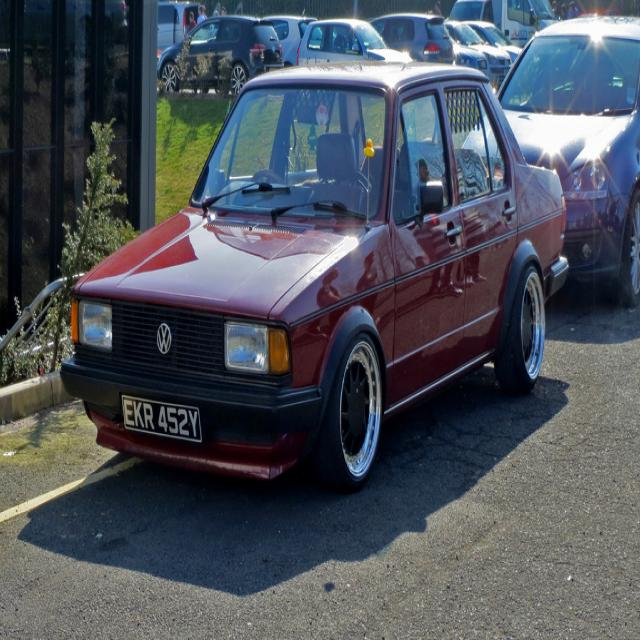car: (59, 53, 571, 506)
